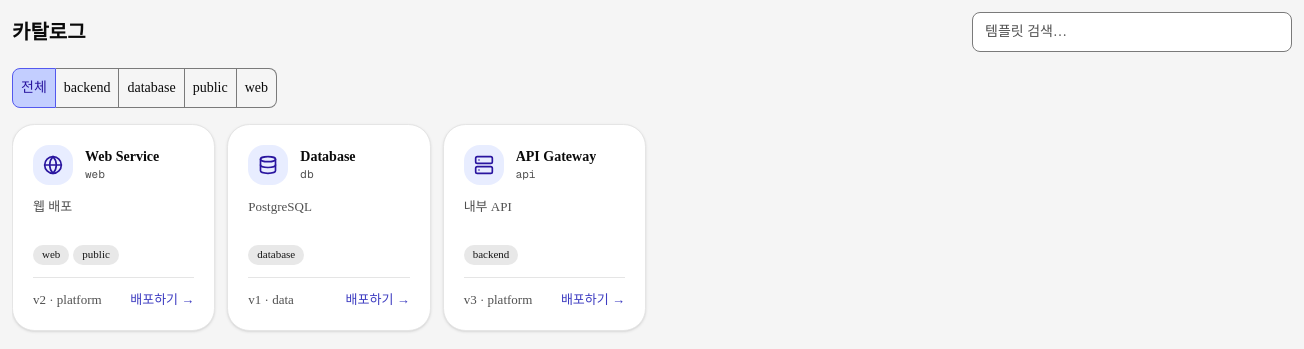
Test: CatalogBrowser › filters by search (matches description)
Type "PostgreSQL" into the field with placeholder "템플릿 검색…" at (1132, 32), box [972,12,1292,52]
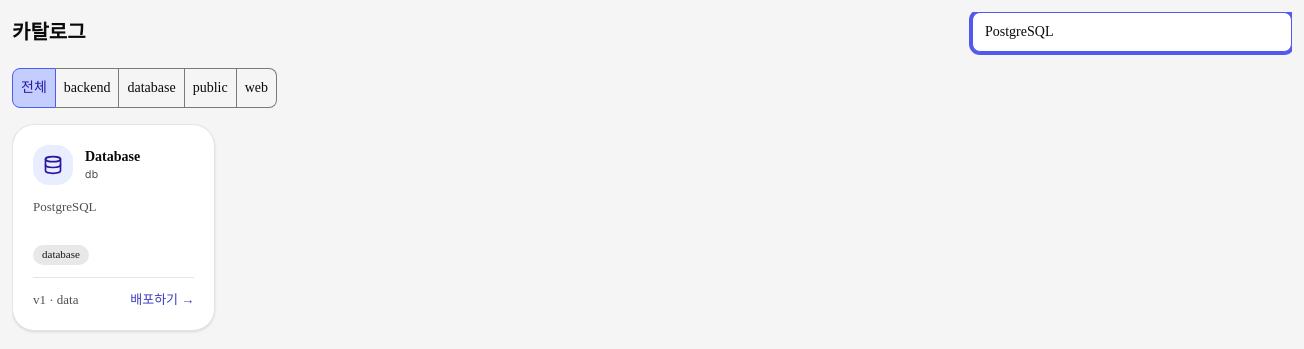
Check: the heading "Database" is shown, box [85,147,140,167]
Check: the heading "Web Service" is gone
